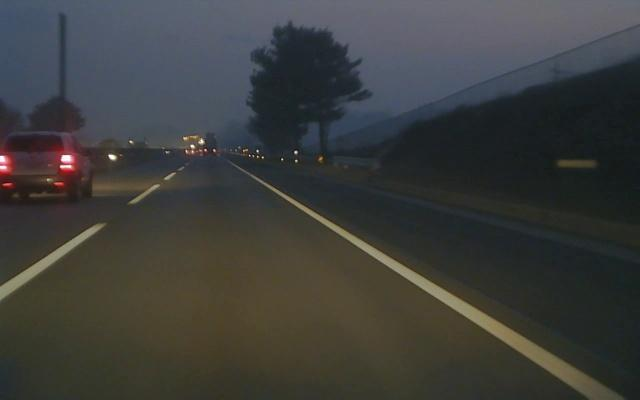lane: (220, 156, 633, 400), (0, 159, 191, 304)
